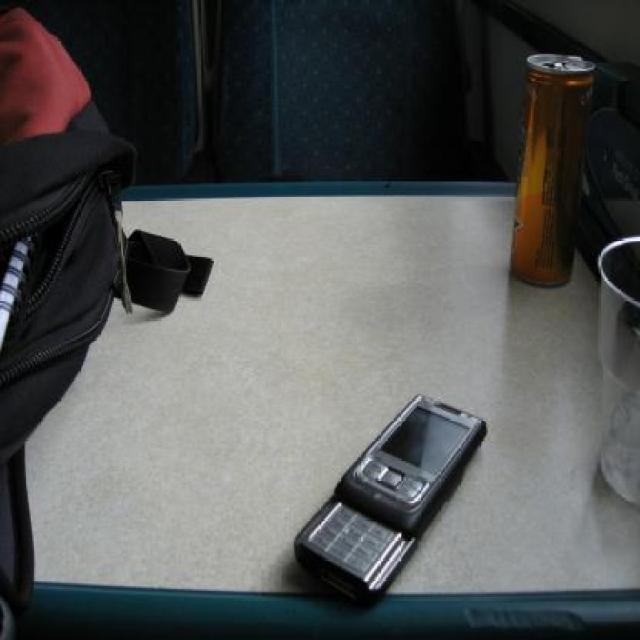phone: (286, 400, 492, 602)
